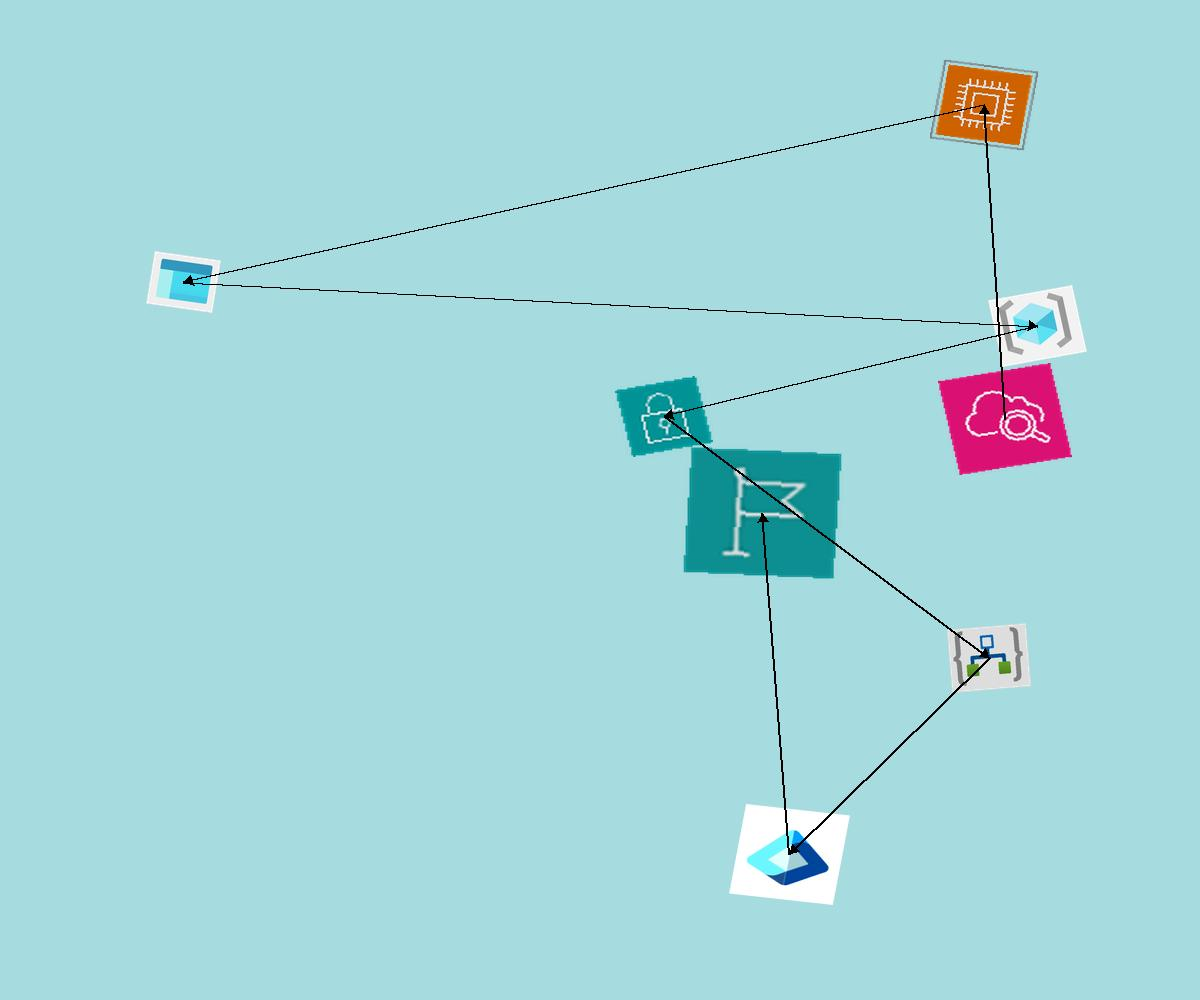AWS-Category_Compute: (929, 59, 1039, 151)
AWS-CloudWatch: (938, 363, 1072, 475)
AWS-Private-subnet: (615, 376, 713, 457)
AWS-Region: (682, 446, 843, 580)
Azure_integration-204-Logic-Apps: (947, 623, 1031, 693)
Azure_management-portal: (146, 251, 221, 313)
Azure_microsoft_entra: (729, 804, 850, 905)
Azure_resource_group: (988, 285, 1087, 367)
